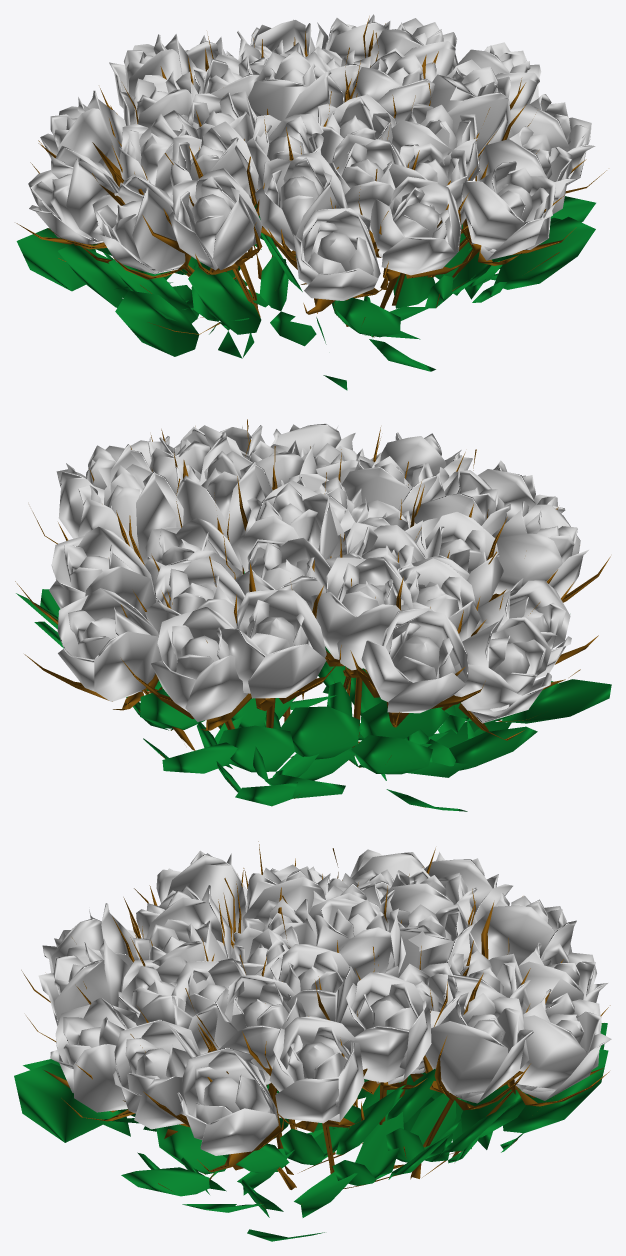
3 renders of one model, top to bottom at view 1: azimuth 30°, elevation 25°; view 2: azimuth 150°, elevation 25°; view 3: azimuth 270°, elevation 25°, orthographic. The views are drawn at different scales.
Parts seen in each view (by area): view 1: 9934b087; view 2: 9934b087; view 3: 9934b087.
Boxes of the visible parts, <box> form: 9934b087: <box>16,14,606,390</box>; 9934b087: <box>15,419,611,811</box>; 9934b087: <box>14,841,611,1241</box>.
Size of the model in its own units: 0.1556 by 0.0642 by 0.1418.
